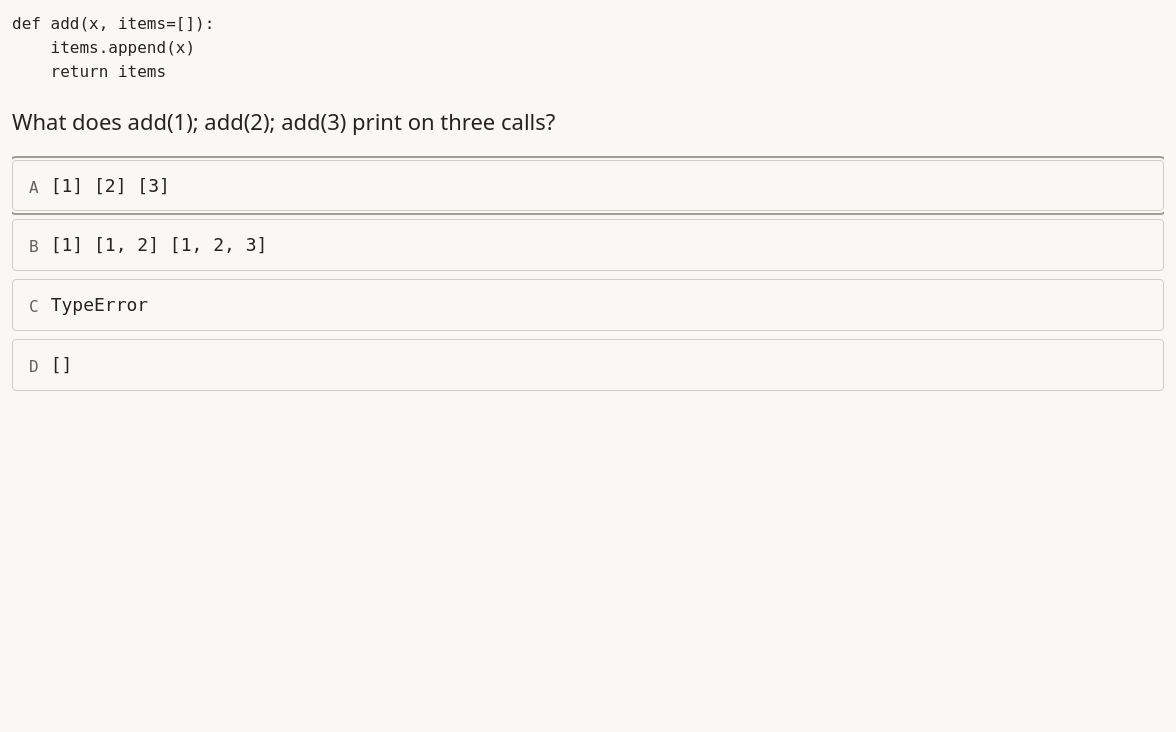
Test: CodeTrapCard — post-submit › clicking an option locks the choices and reveals correctness
This screenshot has width=1176, height=732.
What coordinates should you click on to do the following:
click the button "B [1] [1, 2] [1, 2, 3]"
I would click on:
 (159, 245)
Its box is 12,220 -> 1164,271.
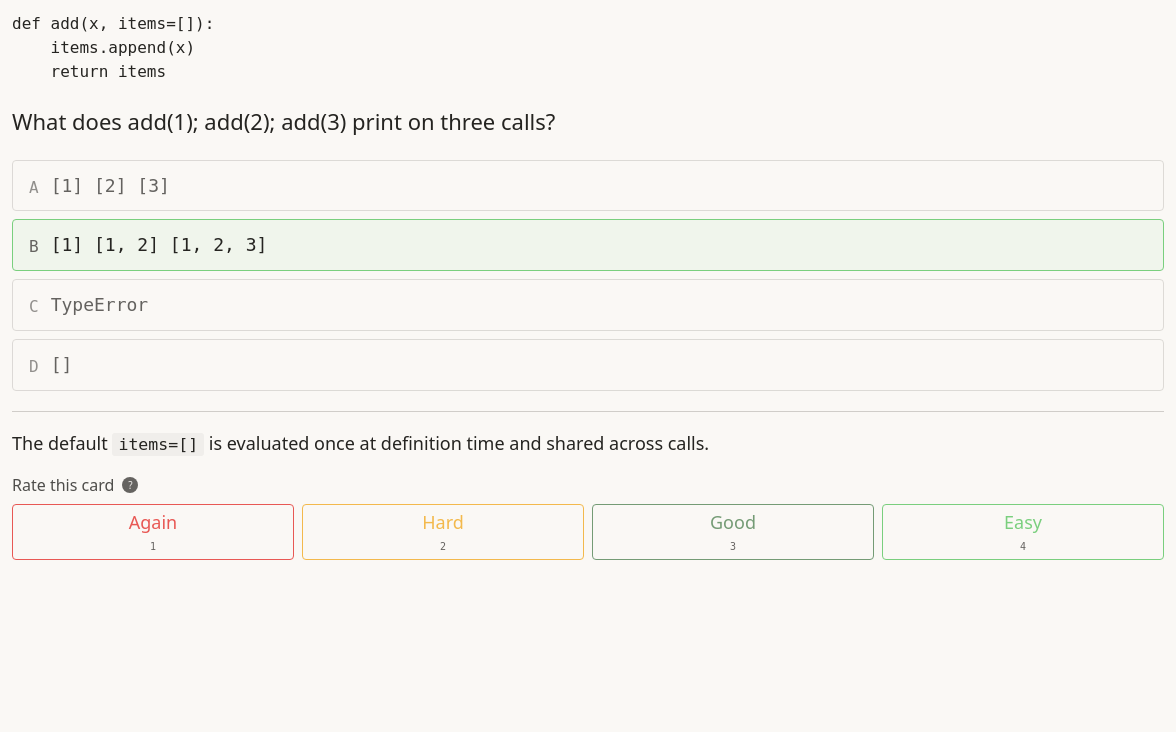
Check: the button "C TypeError" is disabled, box 12,279 -> 1164,331
Check: the button "D []" is disabled, box 12,339 -> 1164,391
